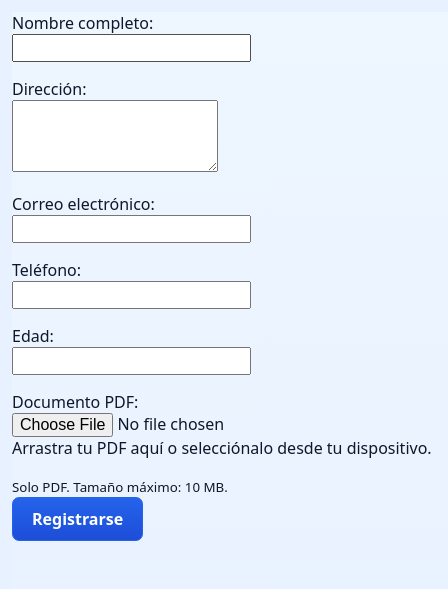
ExamRegistrationForm › shows a visible error when registration fails
The image size is (448, 589).
Type "Ana López" into the field labelled "Nombre completo:".
click(132, 48); type("Ana López")  # box top-left (12, 34), bottom-right (251, 62)
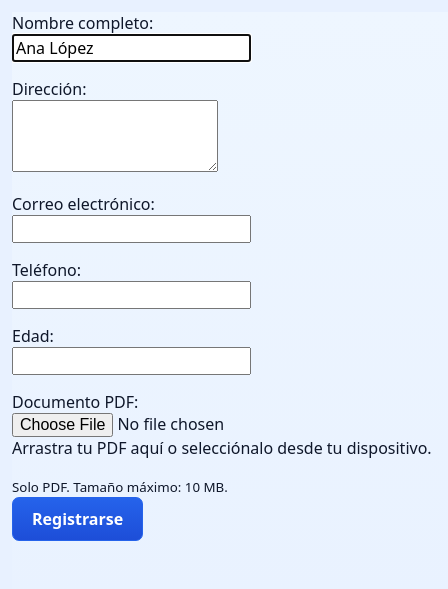
Type "ana@example.com" into the field labelled "Correo electrónico:".
click(132, 229); type("ana@example.com")  # box top-left (12, 215), bottom-right (251, 243)
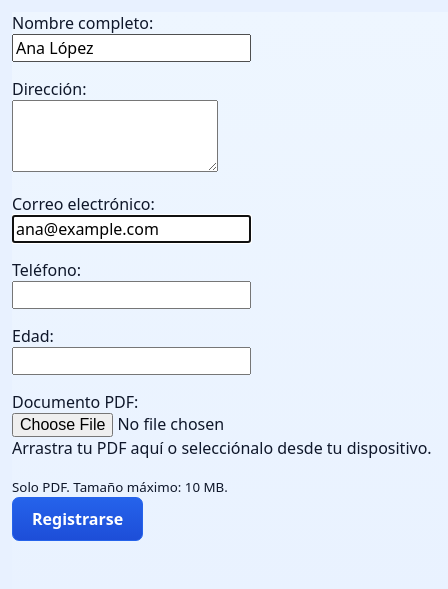
Type "5551234567" into the field labelled "Teléfono:".
click(132, 295); type("5551234567")  # box top-left (12, 281), bottom-right (251, 309)
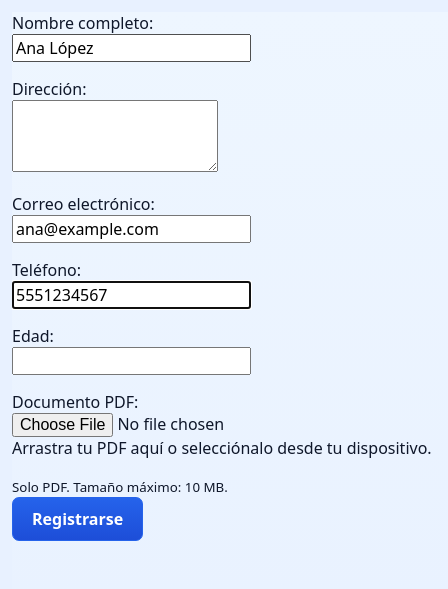
Type "24" into the number field labelled "Edad:".
click(132, 361); type("24")  # box top-left (12, 347), bottom-right (251, 375)
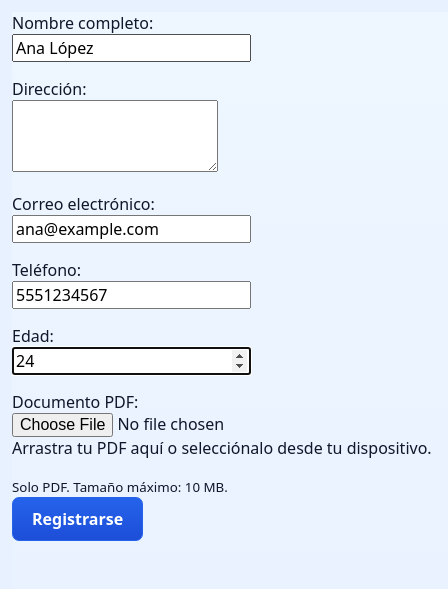
Click the button "Registrarse".
click(78, 519)  # box top-left (12, 497), bottom-right (143, 541)
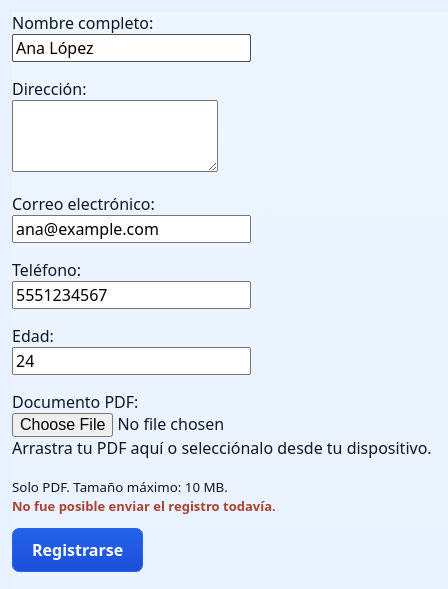
Expected: the message reads "No fue posible enviar el registro todavía.", top-left (12, 497), bottom-right (276, 515)
